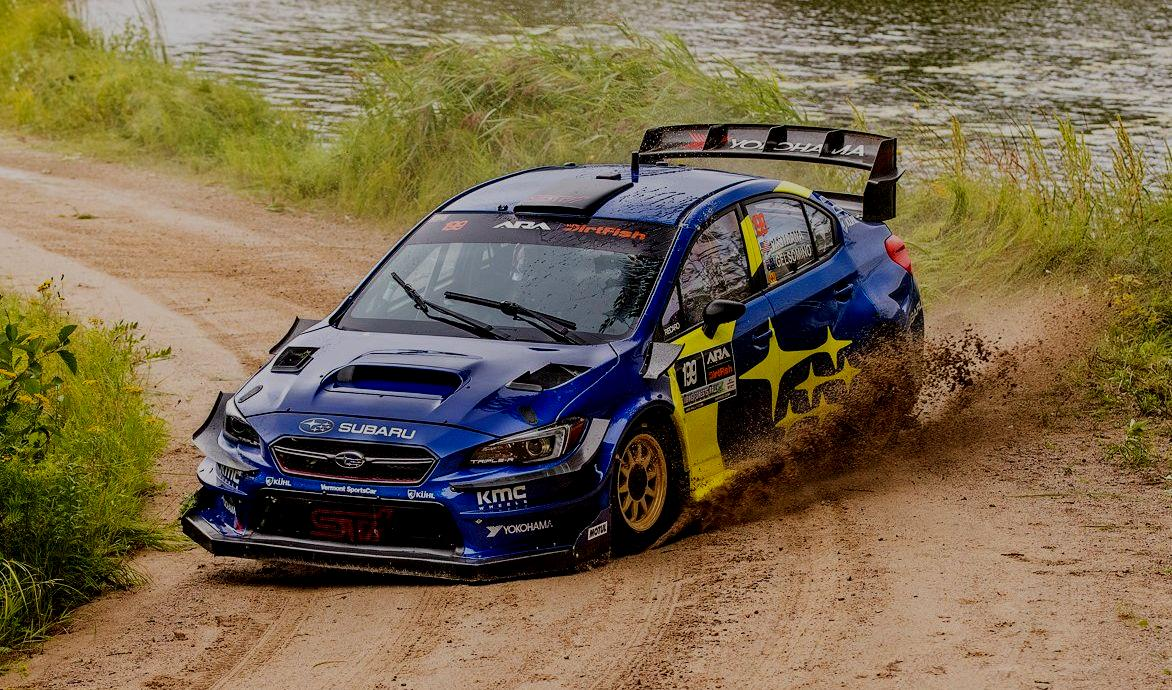subaru: (329, 445, 369, 474)
